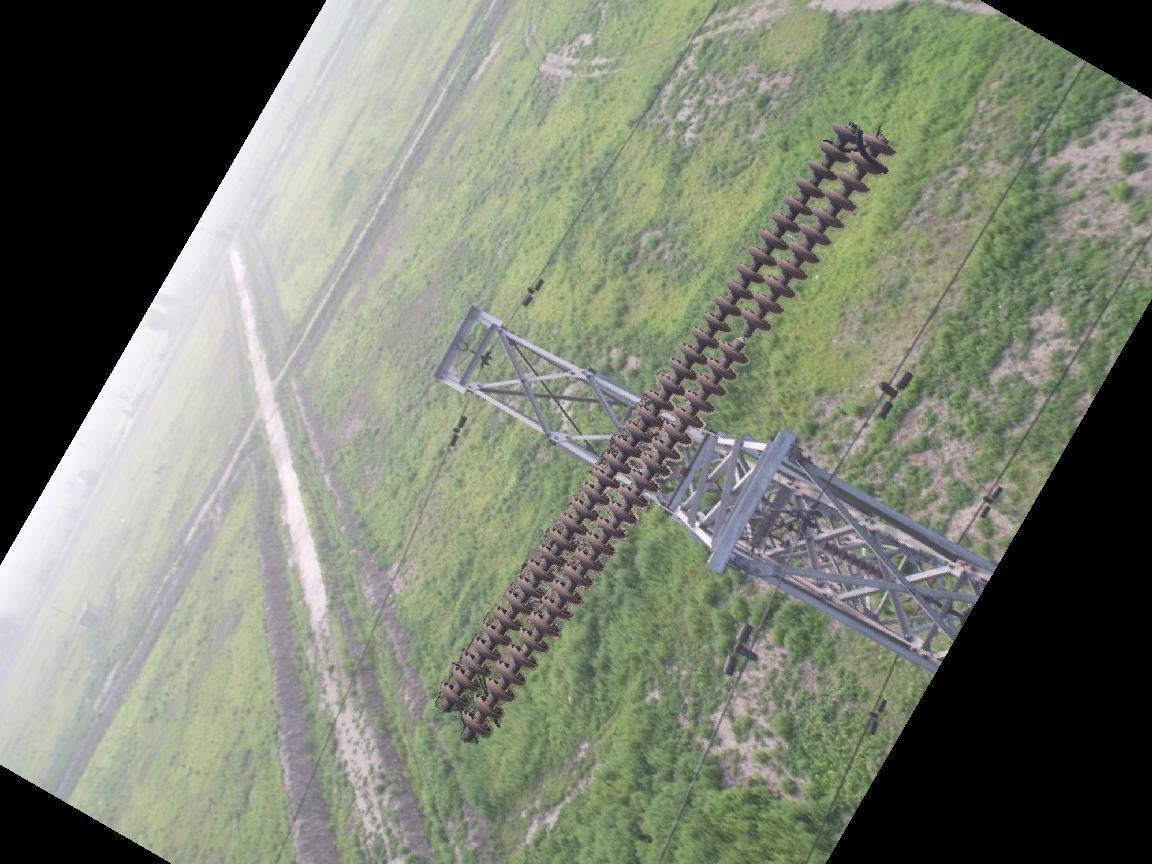insulator: (436, 114, 903, 740), (809, 538, 888, 585)
insulator_stringdrop: (716, 306, 775, 367)
